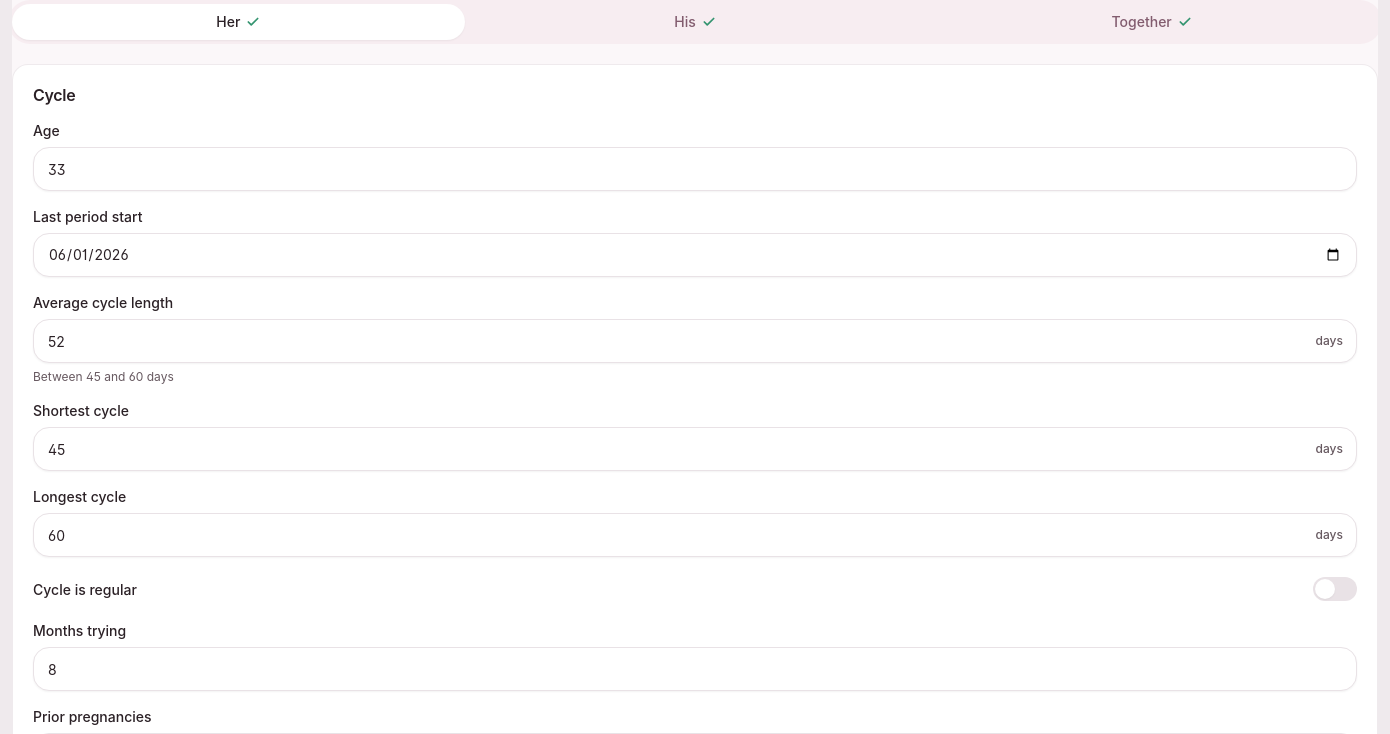
Test: IntakeForm — inline validation (Task 13.1, Req 2.8) › rejects an out-of-range cycle length and shows a field+range error while retaining the prior value
// Enter an out-of-range value (45–60 days) and commit on blur.
Replace the text in the number field labelled "Average cycle length" with "30" at {"x": 695, "y": 341}, box x1=33 y1=319 x2=1357 y2=363
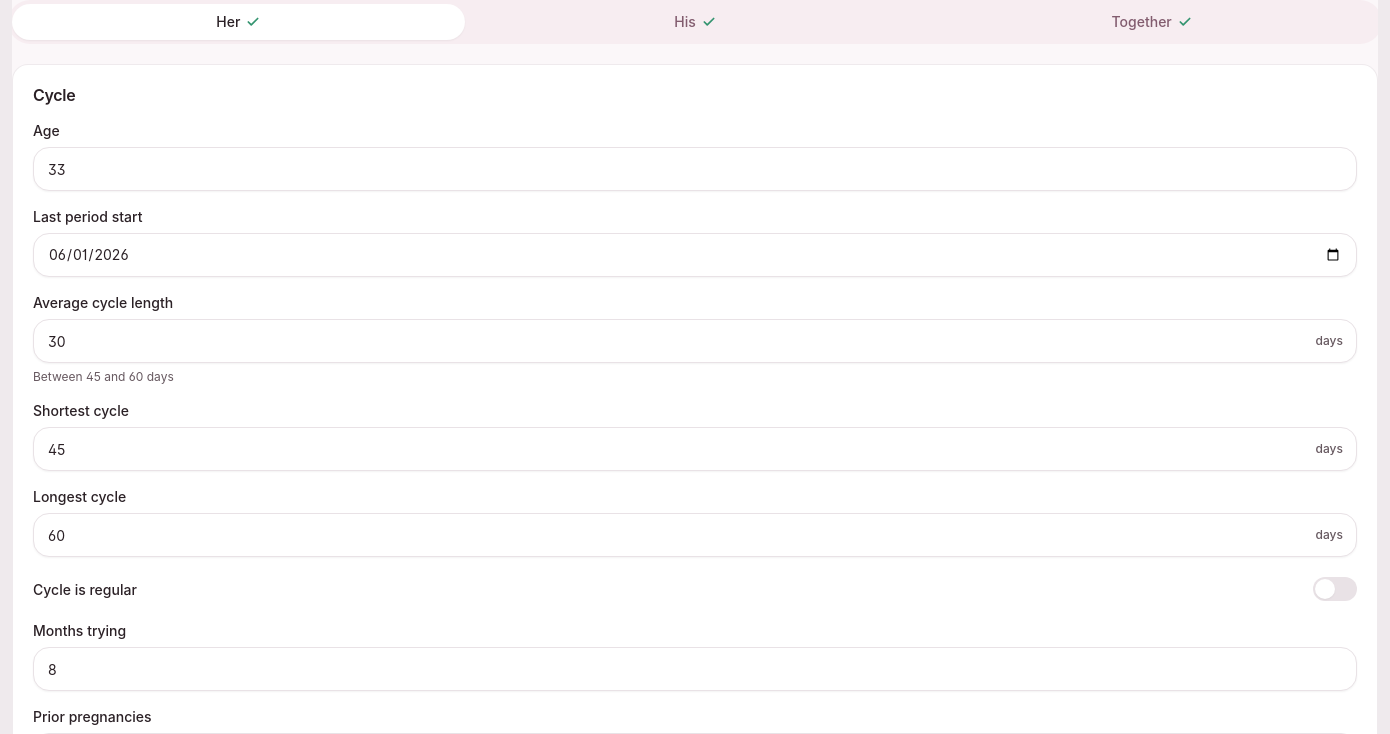
Leave the number field labelled "Average cycle length", box x1=33 y1=319 x2=1357 y2=363
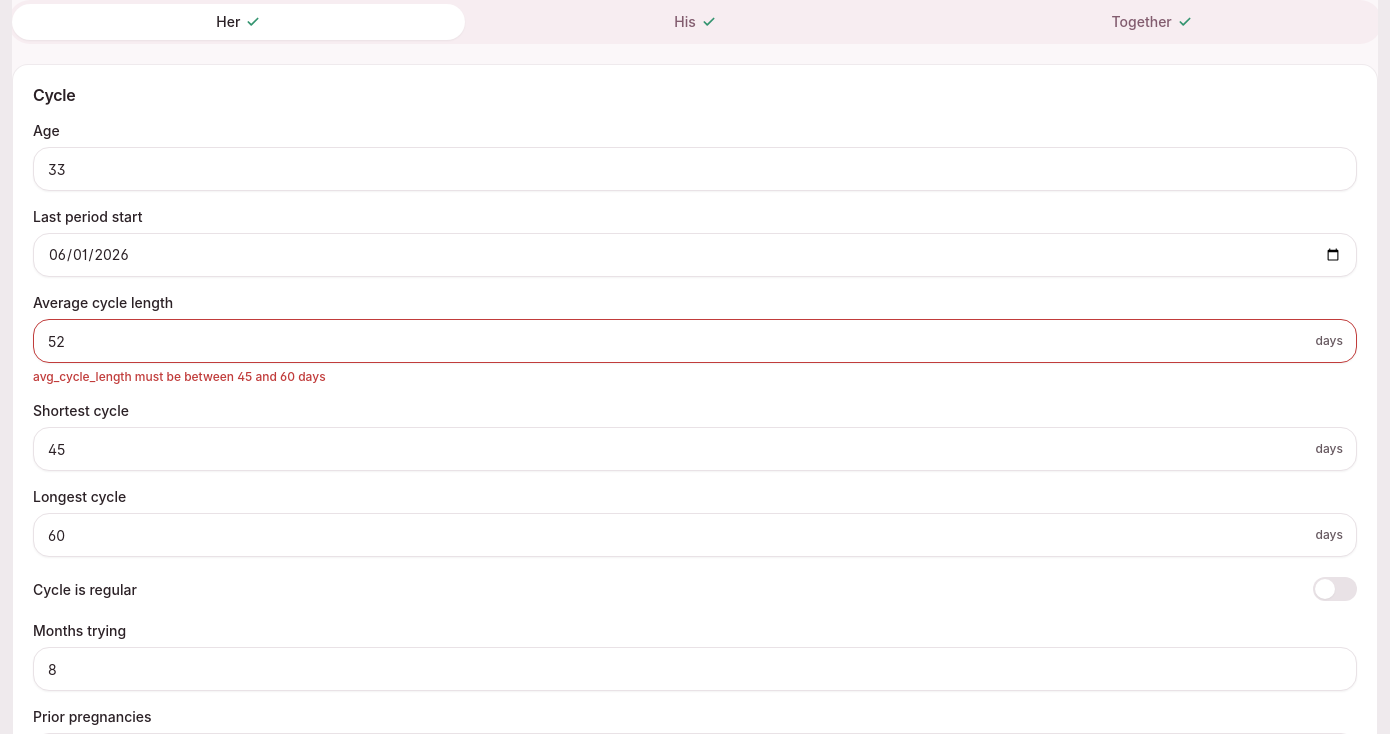
Expected: the message reads "avg_cycle_length must be between 45 and 60 days", x1=33 y1=369 x2=326 y2=384
Expected: the number field labelled "Average cycle length" holds "52", x1=33 y1=319 x2=1357 y2=363
